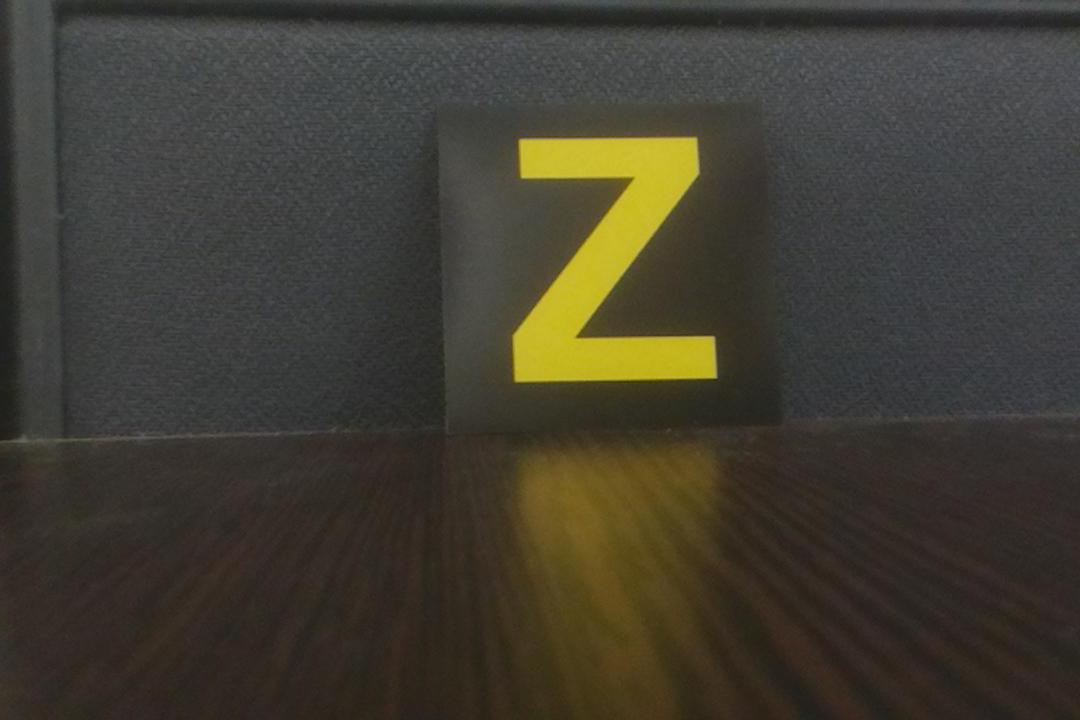alphabet_z: (442, 105, 780, 423)
